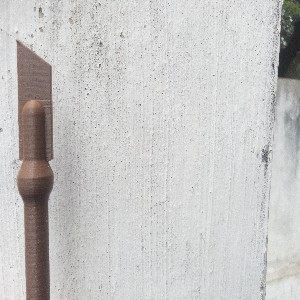cutter: (15, 38, 55, 300)
